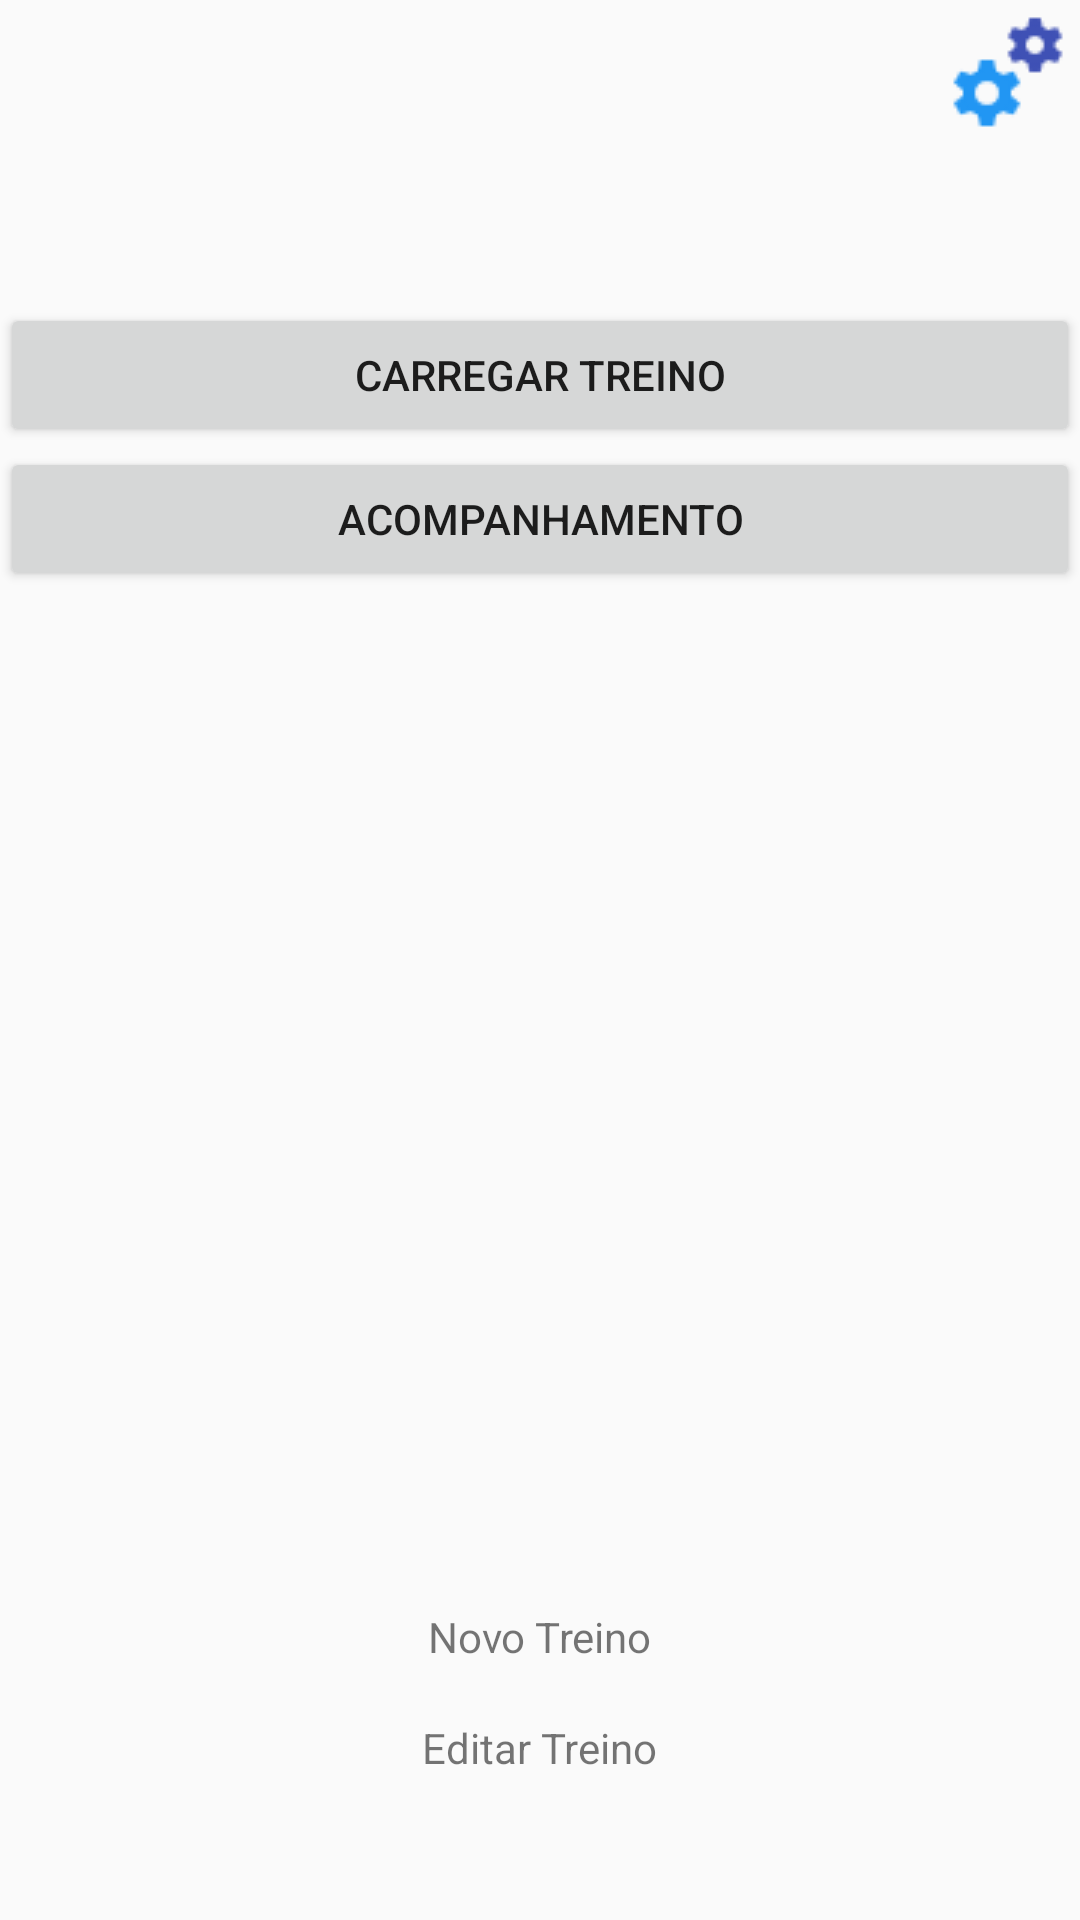

Screen size 1080 × 1920. Icon name, then its box in pixels as (x1, y1, x2, y2):
config: (953, 17, 1063, 127)
